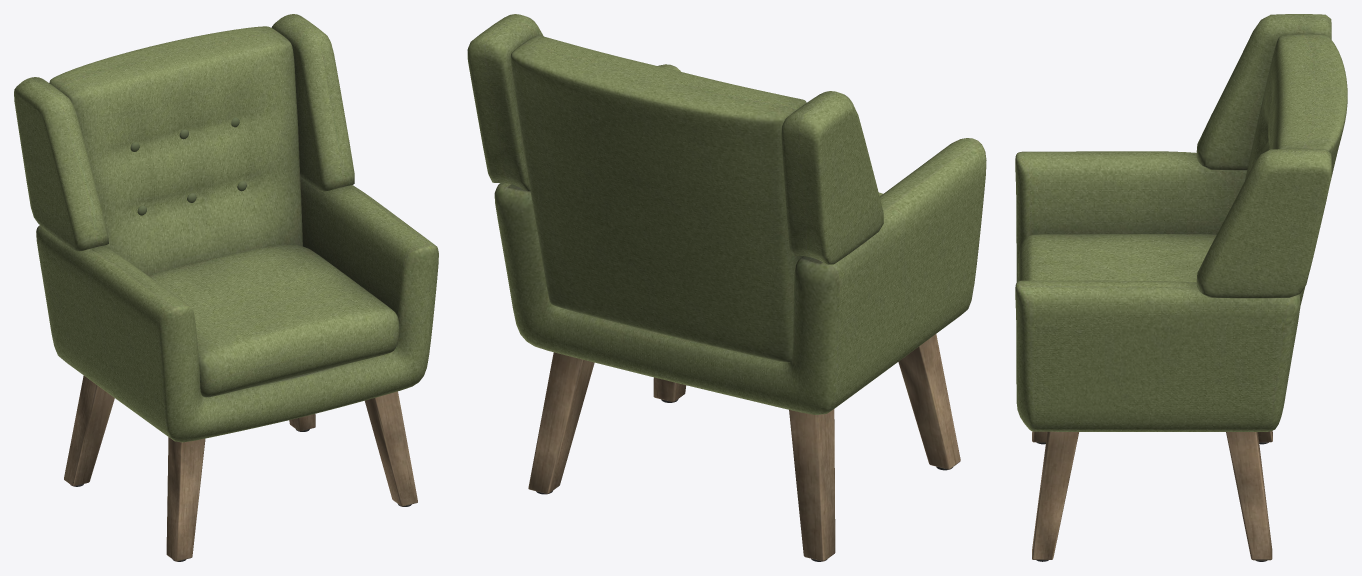
File: arm-chair.glb
3 views of the same model, side by side, from view 1: azimuth 30°, elevation 25°; view 2: azimuth 150°, elevation 25°; view 3: azimuth 270°, elevation 25° (orthographic). The views are drawn at different scales.
Visible parts, largest first — view 1: Chair_Chair_MTL_0001; view 2: Chair_Chair_MTL_0001; view 3: Chair_Chair_MTL_0001.
Part boxes in pixels (x1,y1,x2,y2): Chair_Chair_MTL_0001: (14,14,438,561); Chair_Chair_MTL_0001: (467,14,986,561); Chair_Chair_MTL_0001: (1015,14,1347,561).
Size of the model in its own units: 1.1 by 1.42 by 1.02.
Materials: 1 (1 with a texture image).
